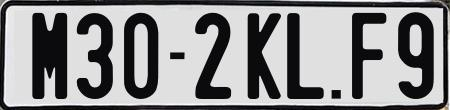0: (123, 12, 158, 98)
2: (195, 10, 233, 96)
3: (77, 12, 119, 102)
9: (396, 11, 435, 101)
F: (350, 13, 384, 104)
K: (246, 11, 279, 99)
L: (286, 13, 327, 105)
M: (29, 13, 68, 101)
